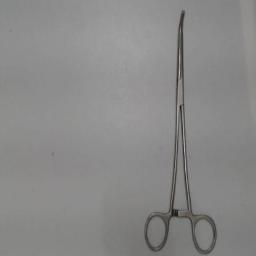Lahey Forceps: (140, 7, 220, 255)
